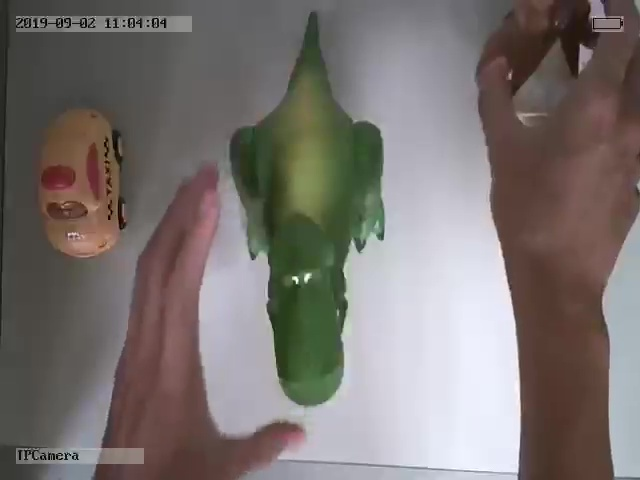car: (37, 102, 128, 257)
rex: (227, 16, 387, 406)
